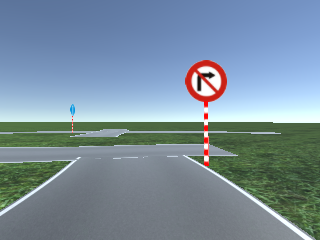-5: (1, 192, 320, 239)
NoRight: (184, 60, 226, 102)
